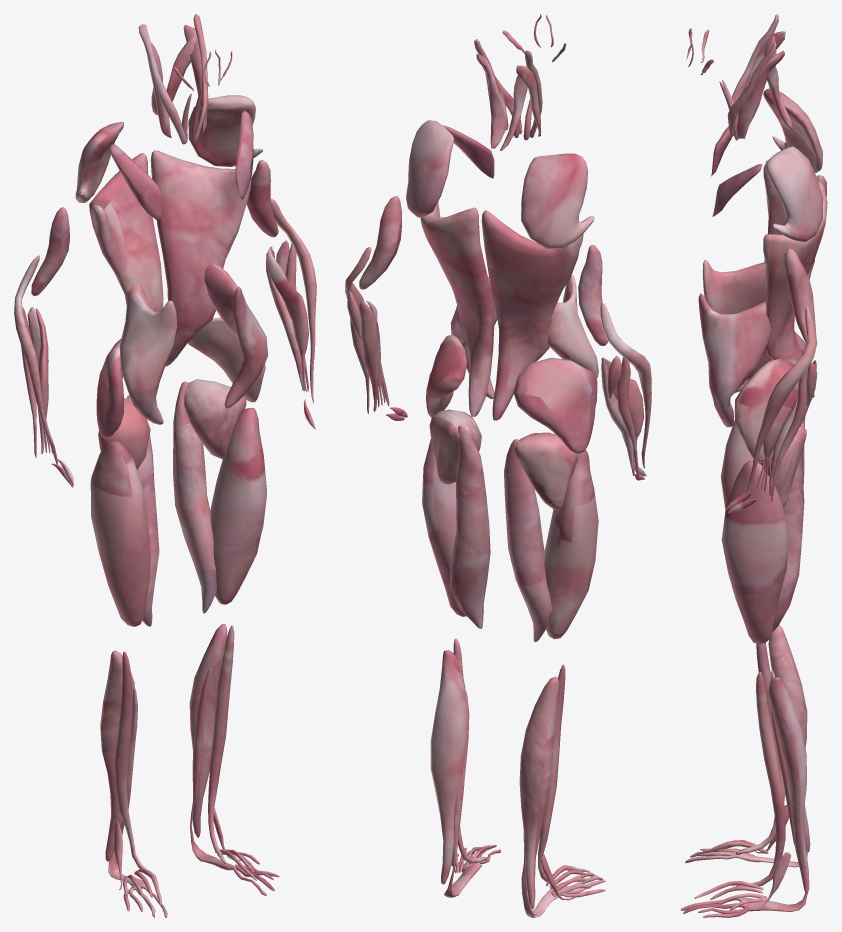
Rendered from mus3.glb.
3 views of the same model, side by side, from view 1: azimuth 30°, elevation 25°; view 2: azimuth 150°, elevation 25°; view 3: azimuth 270°, elevation 25° (orthographic).
Parts seen in each view (by area): view 1: model_15; view 2: model_15; view 3: model_15.
Part boxes in pixels (left/top/right/bottom): model_15: left=14, top=14, right=316, bottom=917; model_15: left=345, top=14, right=651, bottom=917; model_15: left=680, top=14, right=827, bottom=917.
Size of the model in its own units: 2.91 by 8.04 by 1.24.
1 material, 1 textured.
